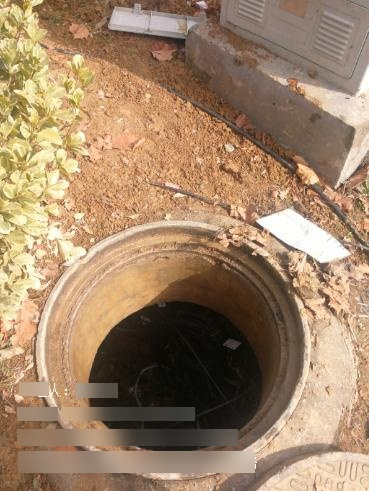lose: (36, 220, 310, 480)
